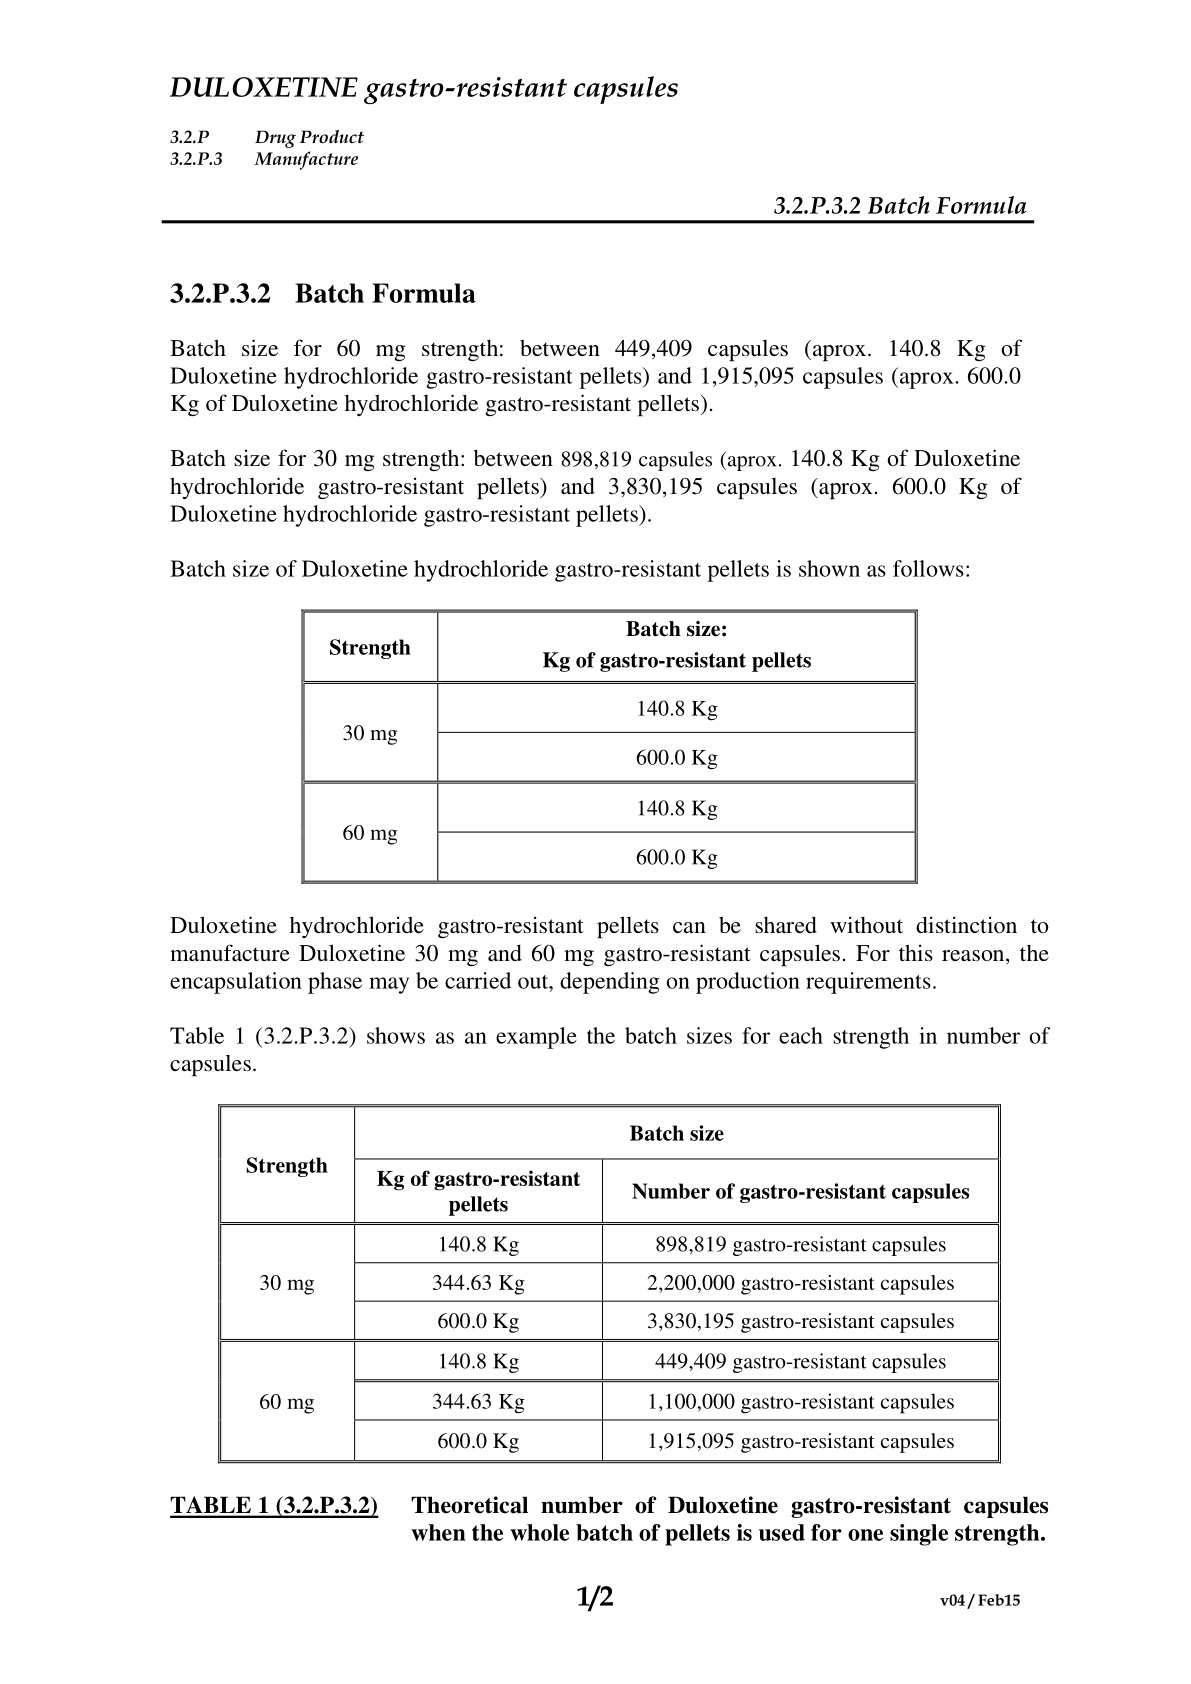merged_cells: (218, 1104, 1002, 1464), (302, 609, 918, 884)
